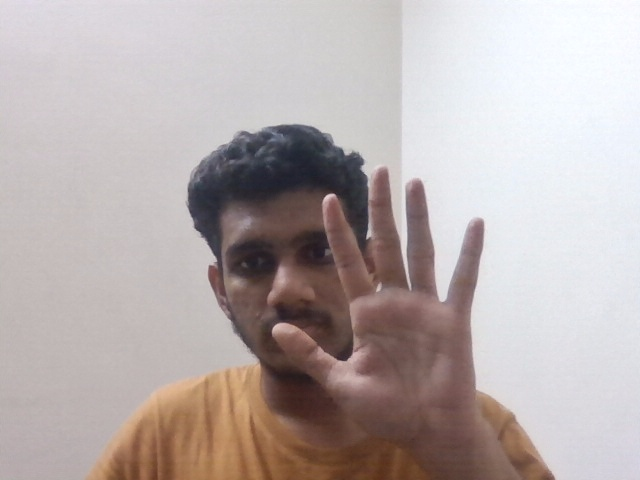hello: (276, 160, 502, 447)
